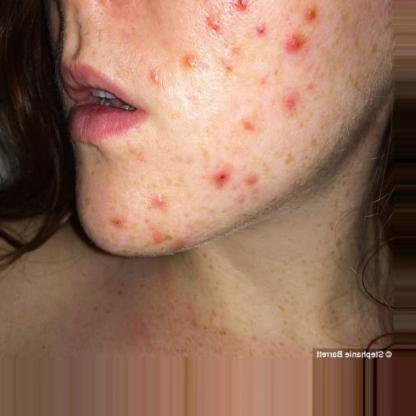Acne: (200, 4, 229, 41), (209, 154, 234, 192), (300, 3, 330, 32), (280, 30, 309, 60), (240, 111, 264, 144), (176, 48, 200, 78), (148, 182, 172, 210), (142, 63, 163, 90), (246, 21, 273, 41), (229, 0, 252, 23)
